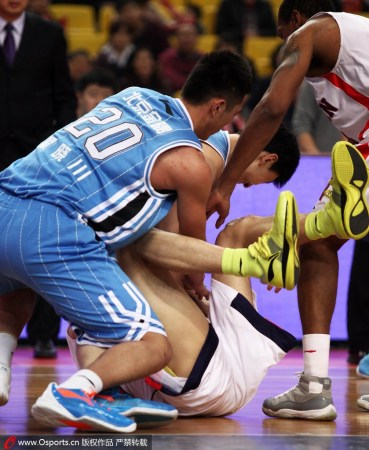10+: (1, 1, 365, 432)
down: (64, 139, 369, 412)
